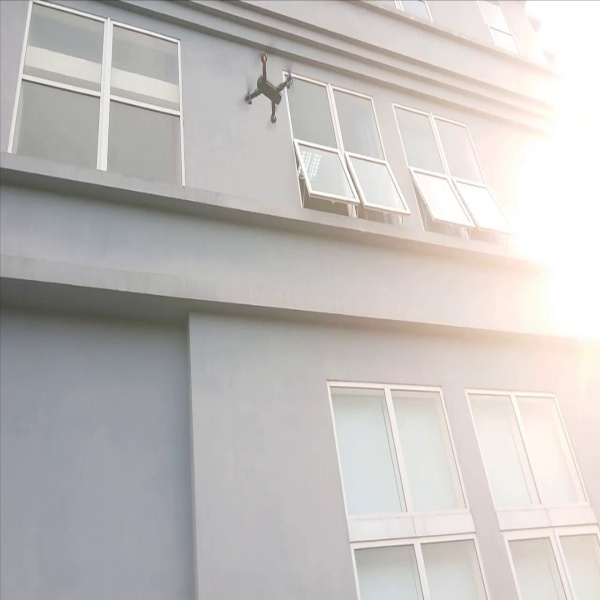drone: (236, 46, 301, 134)
